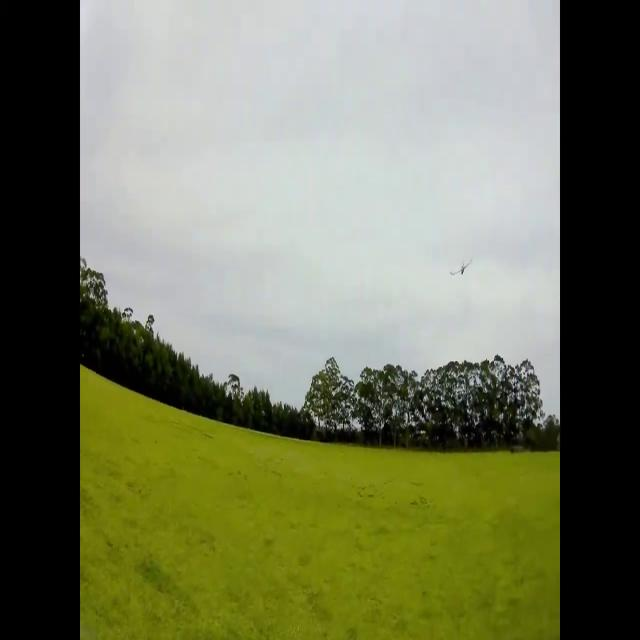iha: (451, 253, 472, 269)
